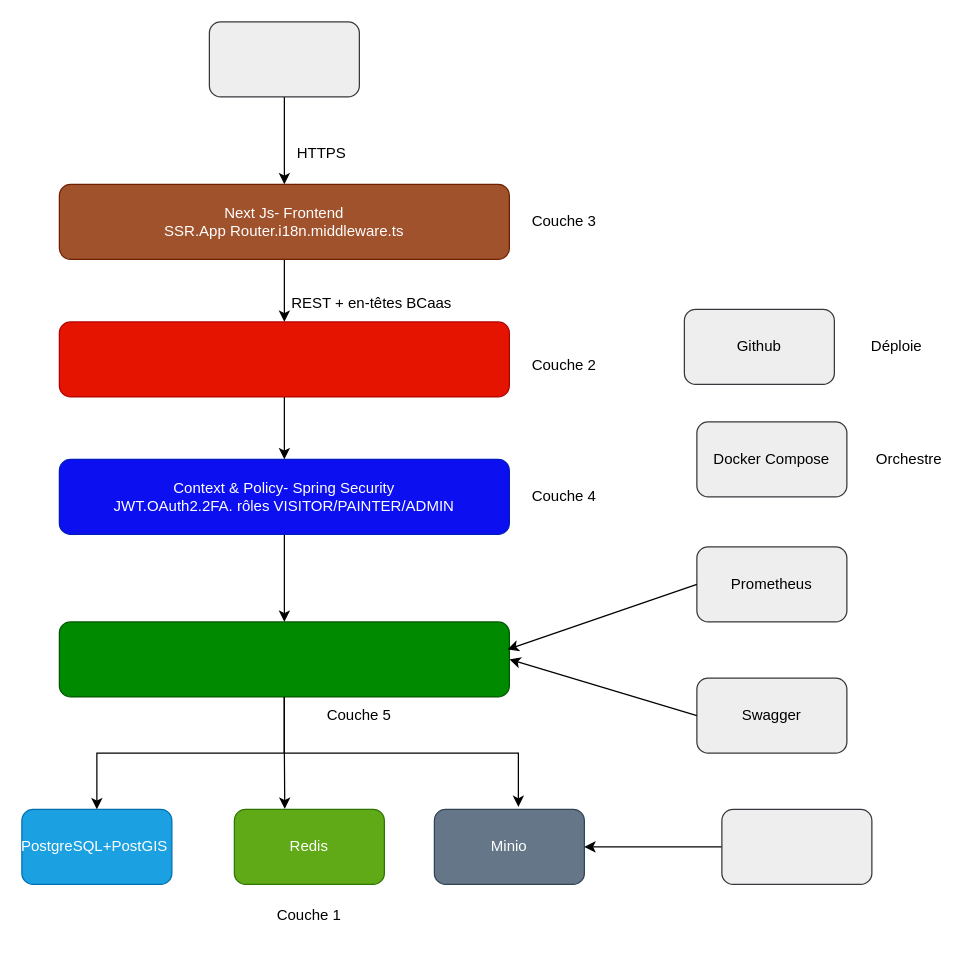
The diagram is 969 pixels wide and 956 high, and some of its shapes have lost their labels. The shapes that lost their labels are listed below. From the top down, each one's centre as x and y in pixels, then its label:
(x=283, y=59): Navigateur
(x=283, y=359): Transport-HeaderInterceptor X-Actor-Id , X-Tenant-Id , X-Trace-Id , X-Locale
(x=283, y=659): Business Capabilities Painting FicheController.RoadmapController
(x=796, y=846): Liquibase
